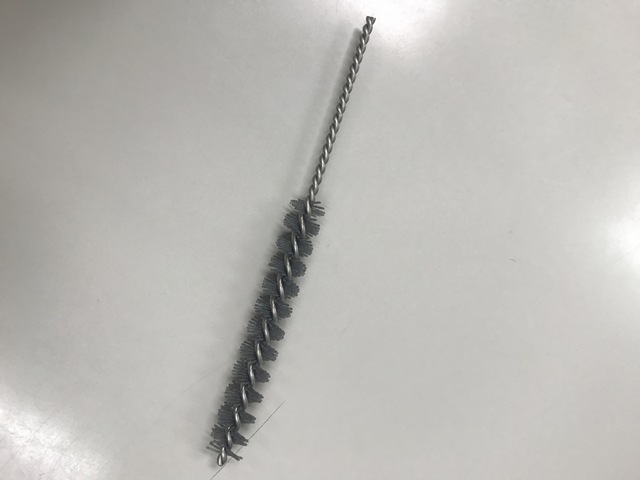Twist Brush-A: (205, 14, 382, 466)
